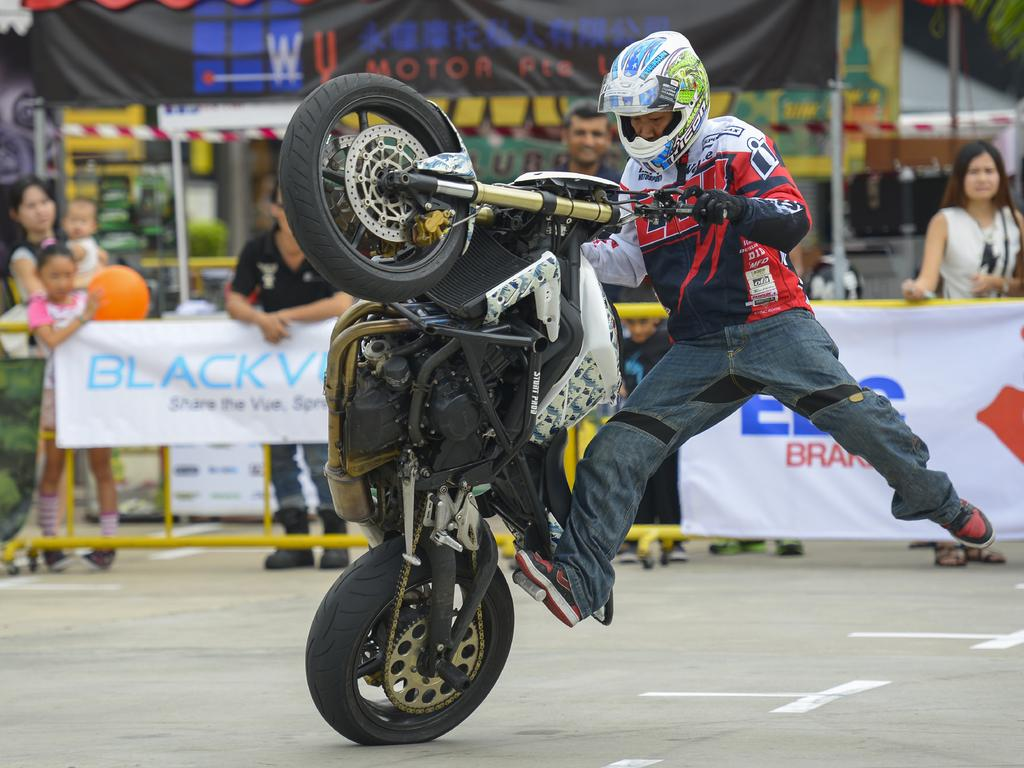helmet: (597, 30, 710, 173)
nohelmet: (560, 101, 612, 171), (955, 140, 1006, 207), (8, 176, 58, 235), (34, 244, 78, 302), (61, 197, 98, 243)
